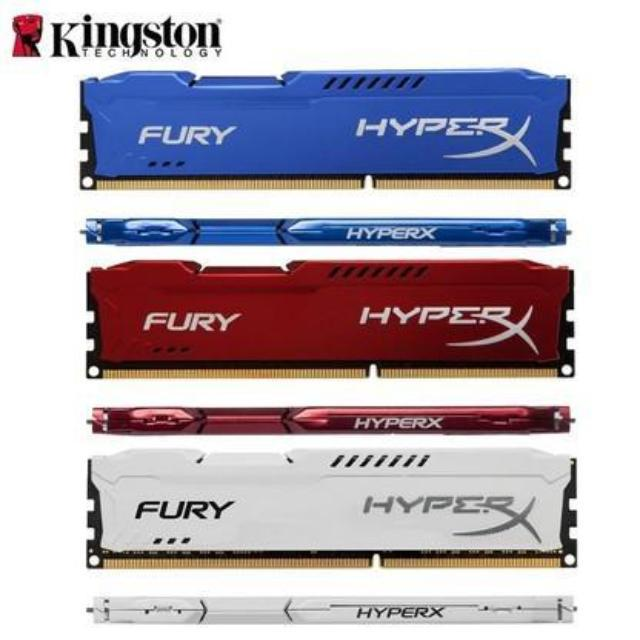RAM: (77, 69, 575, 194), (85, 446, 582, 568), (79, 260, 573, 382)
